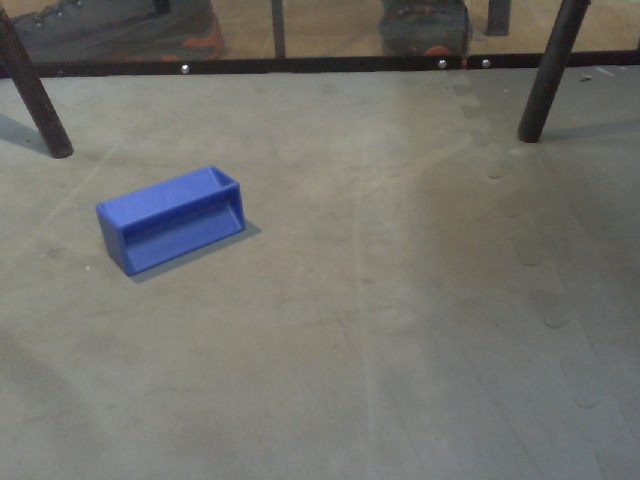BlueSample: (91, 163, 251, 281)
